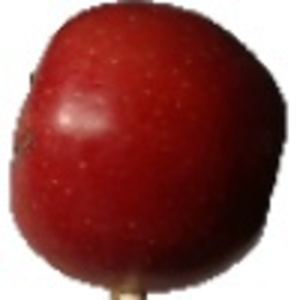maçã braeburn: (9, 1, 285, 292)
